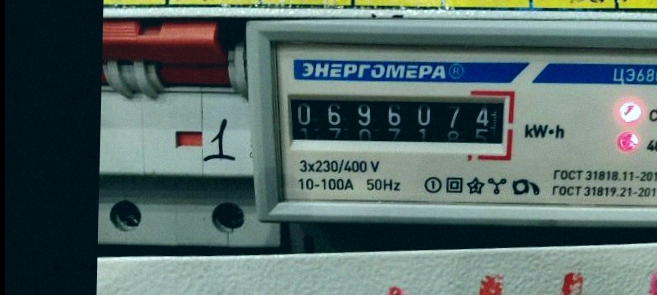0: (293, 100, 313, 125), (415, 101, 432, 127)
4: (473, 103, 490, 125)
5: (474, 128, 490, 143)
6: (386, 101, 404, 127), (325, 101, 343, 126)
7: (445, 103, 463, 128)
9: (355, 101, 372, 127)
screen: (277, 81, 518, 156)
